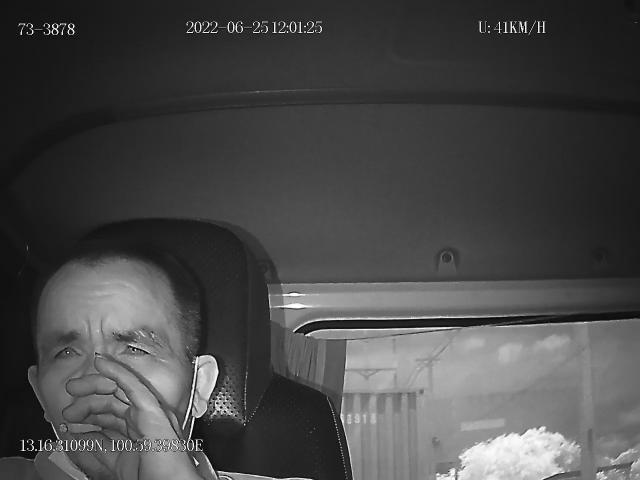SafeDriving: (113, 331, 161, 364), (48, 334, 88, 367)
Smoking: (52, 420, 106, 432)
